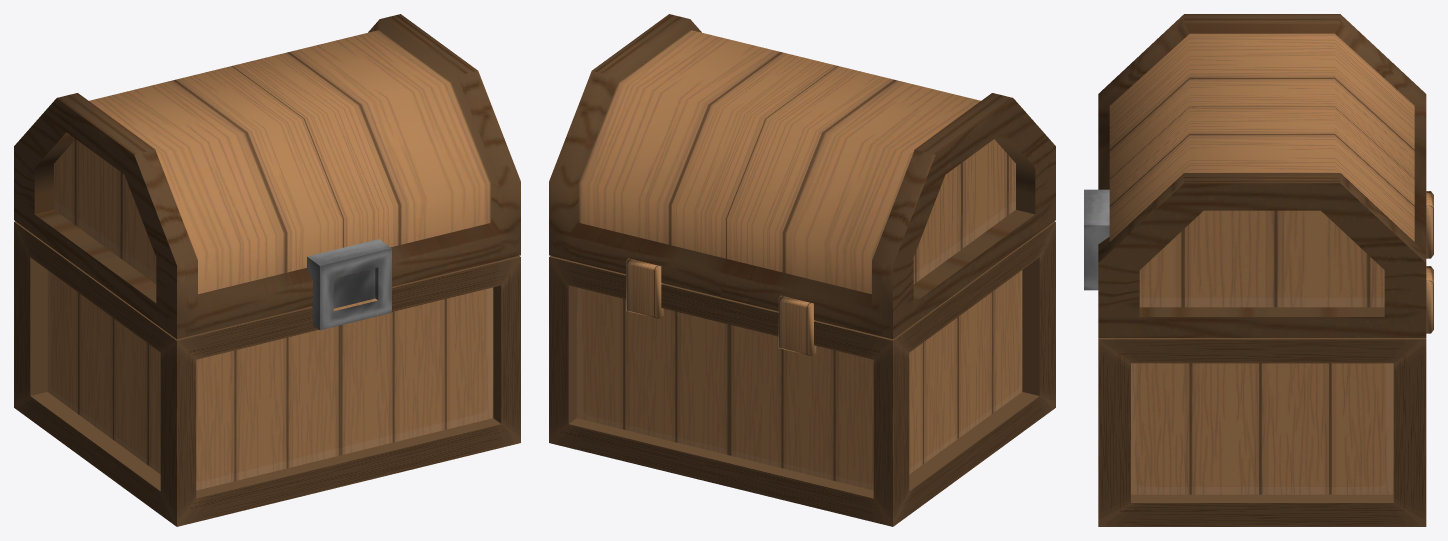
Rendered from ChestHand.fbx.
3 views of the same model, side by side, from view 1: azimuth 30°, elevation 25°; view 2: azimuth 150°, elevation 25°; view 3: azimuth 270°, elevation 25° (orthographic).
Visible parts, largest first — view 1: crate, crate (1); view 2: crate; view 3: crate, crate (1).
Boxes of the visible parts, x1=… form: crate: x1=14, y1=14, x2=520, y2=526; crate (1): x1=307, y1=239, x2=391, y2=330; crate: x1=549, y1=14, x2=1055, y2=526; crate: x1=1098, y1=14, x2=1433, y2=526; crate (1): x1=1084, y1=189, x2=1109, y2=290.
Size of the model in its own units: 1 by 0.9509 by 0.8769.
